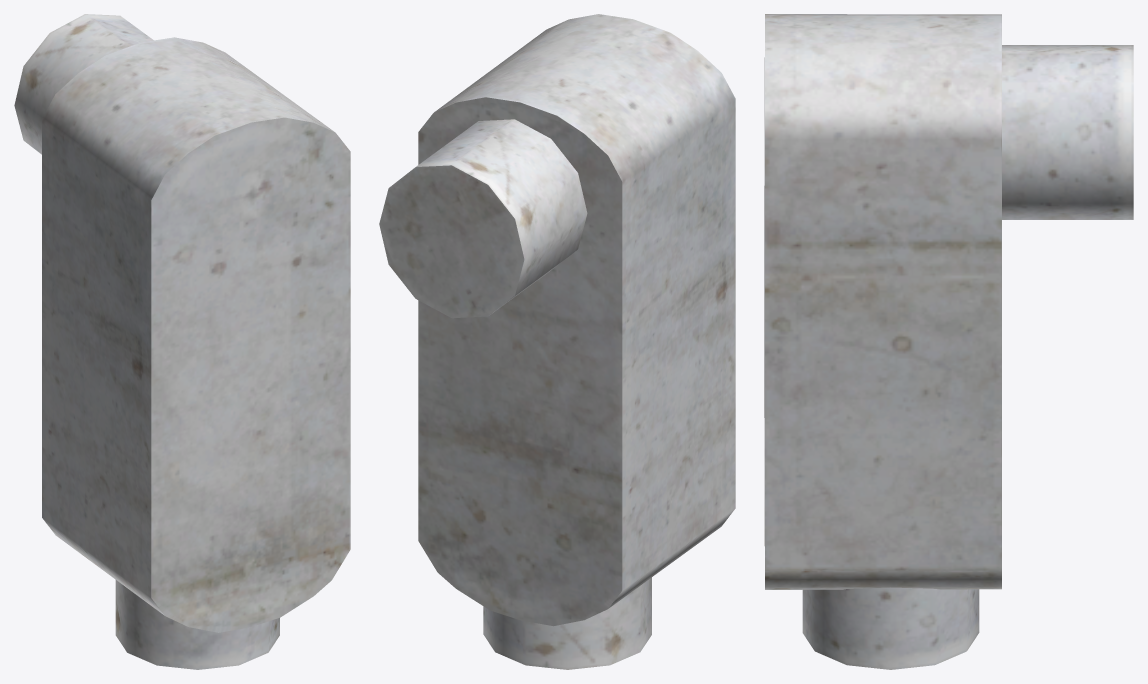
File: SM_Wires_Pipes_01g.glb
The picture shows the model from 3 angles, left to right: view 1: azimuth 30°, elevation 25°; view 2: azimuth 150°, elevation 25°; view 3: azimuth 270°, elevation 25°; orthographic projection. The views are drawn at different scales.
Visible parts, largest first — view 1: SM_Wires_Pipes_01g; view 2: SM_Wires_Pipes_01g; view 3: SM_Wires_Pipes_01g.
Part boxes in pixels (x1,y1,x2,y2): SM_Wires_Pipes_01g: (14, 14, 350, 669); SM_Wires_Pipes_01g: (379, 14, 735, 669); SM_Wires_Pipes_01g: (764, 14, 1133, 669).
Size of the model in its own units: 0.0407 by 0.1087 by 0.0607.
1 material, 1 textured.
